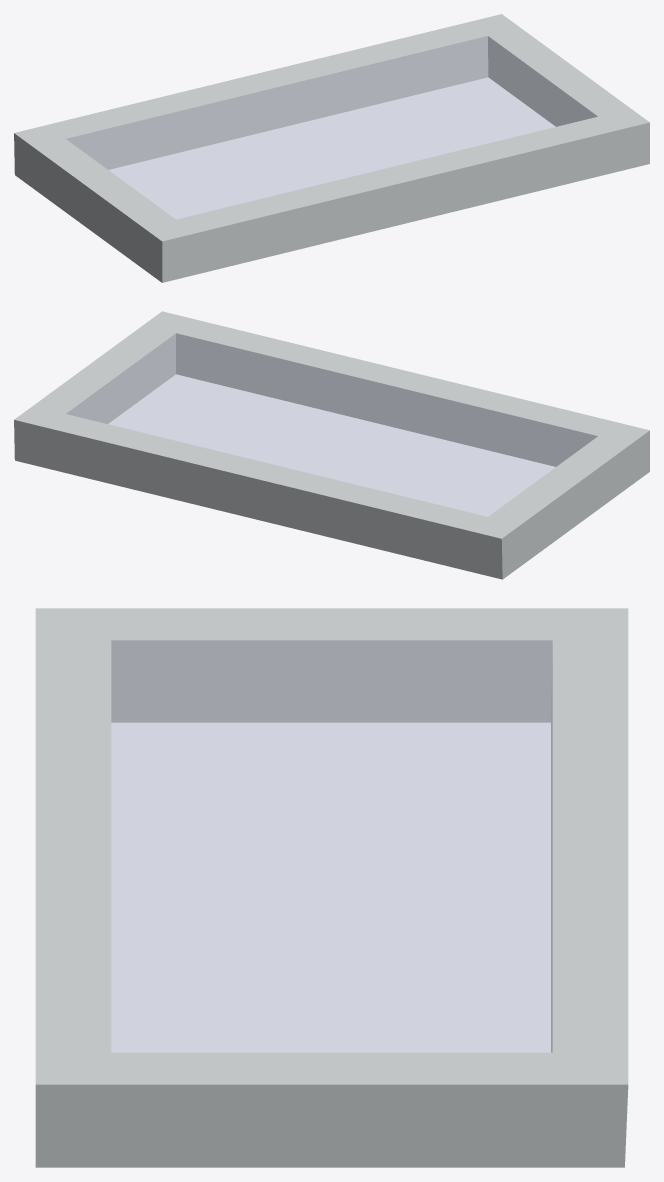
File: small shelf with glass white.glb
The picture shows the model from 3 angles, top to bottom: view 1: azimuth 30°, elevation 25°; view 2: azimuth 150°, elevation 25°; view 3: azimuth 270°, elevation 25°; orthographic projection. The views are drawn at different scales.
Parts seen in each view (by area): view 1: floating shelf glass white; view 2: floating shelf glass white; view 3: floating shelf glass white.
Boxes of the visible parts, box(x1,y1,x2,y2) form: floating shelf glass white: box(14, 14, 649, 282); floating shelf glass white: box(14, 311, 649, 579); floating shelf glass white: box(35, 608, 628, 1167).
Bounding box in the file's own units: 1.33 × 0.1081 × 0.7.
